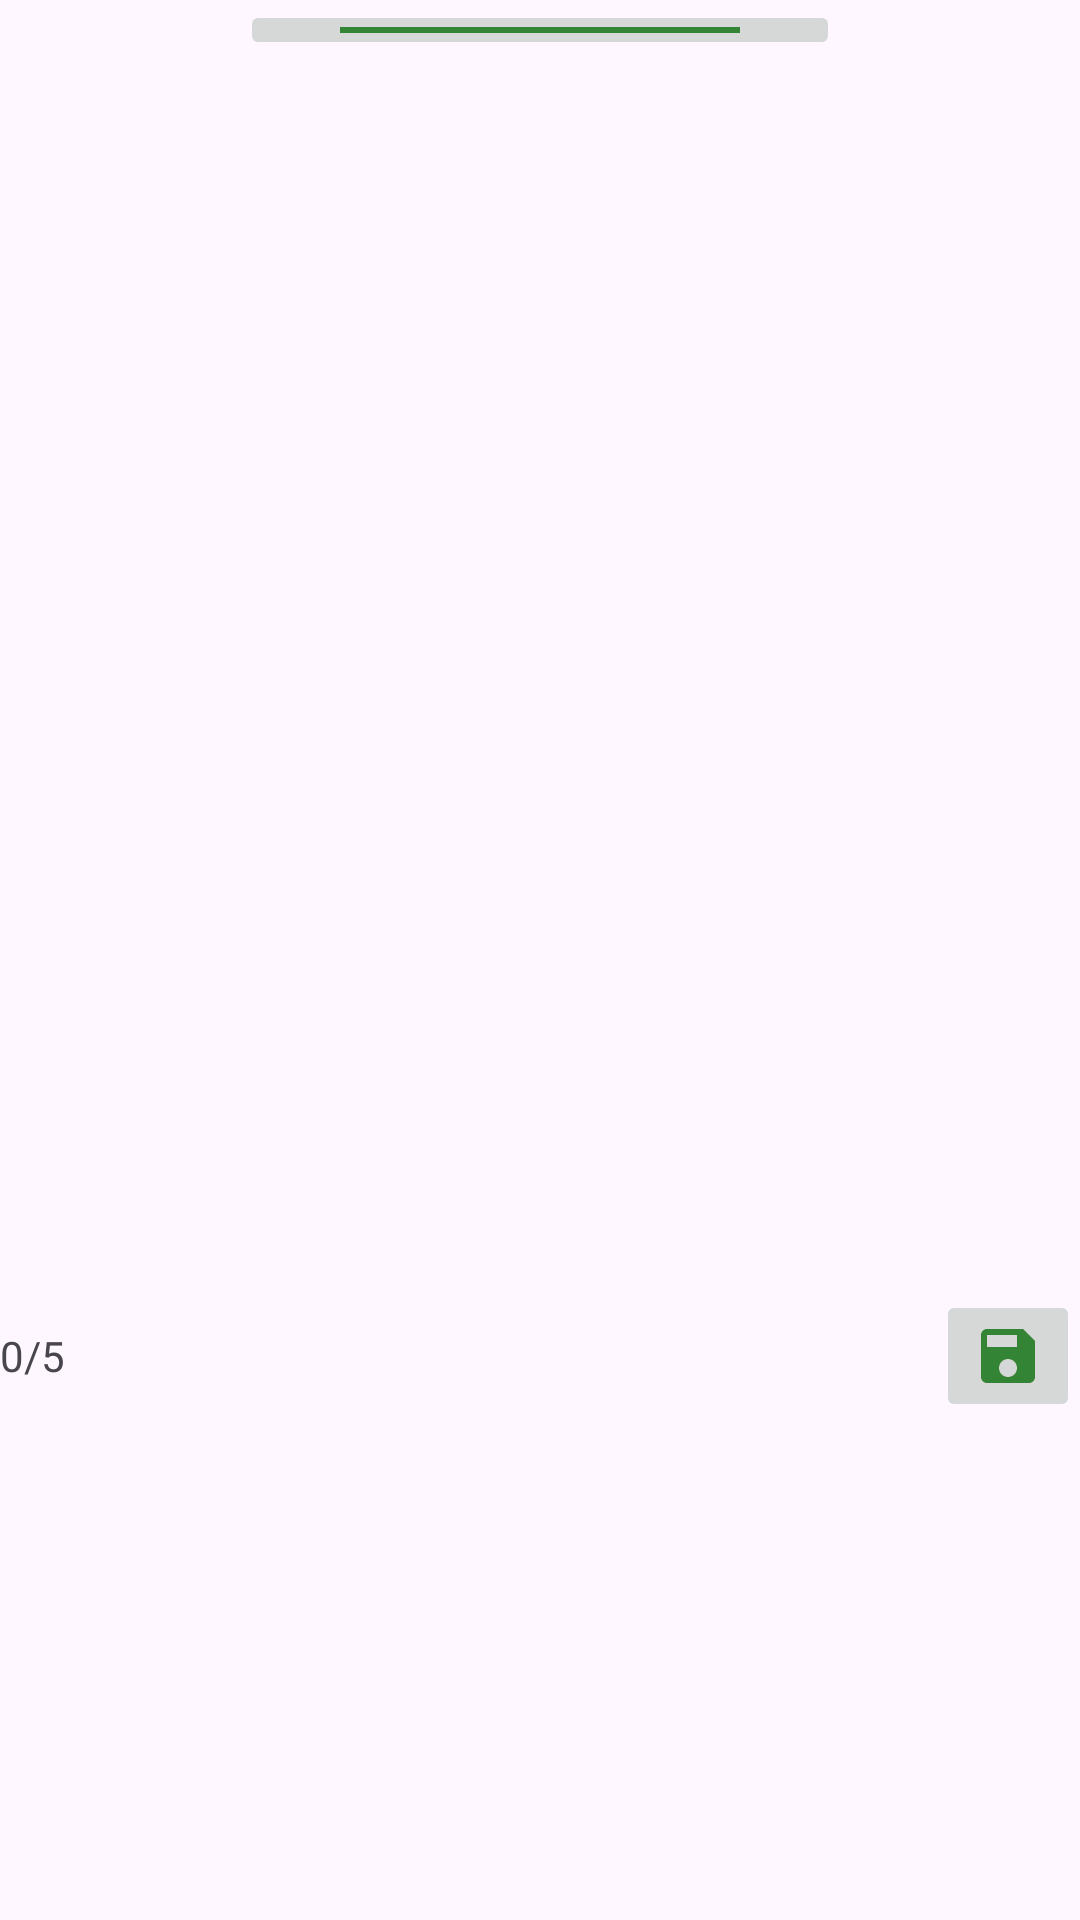

Named icons in this screenshot (1080 x 1920) and their centers, (x=x, y=y):
save: (x=1008, y=1356)
